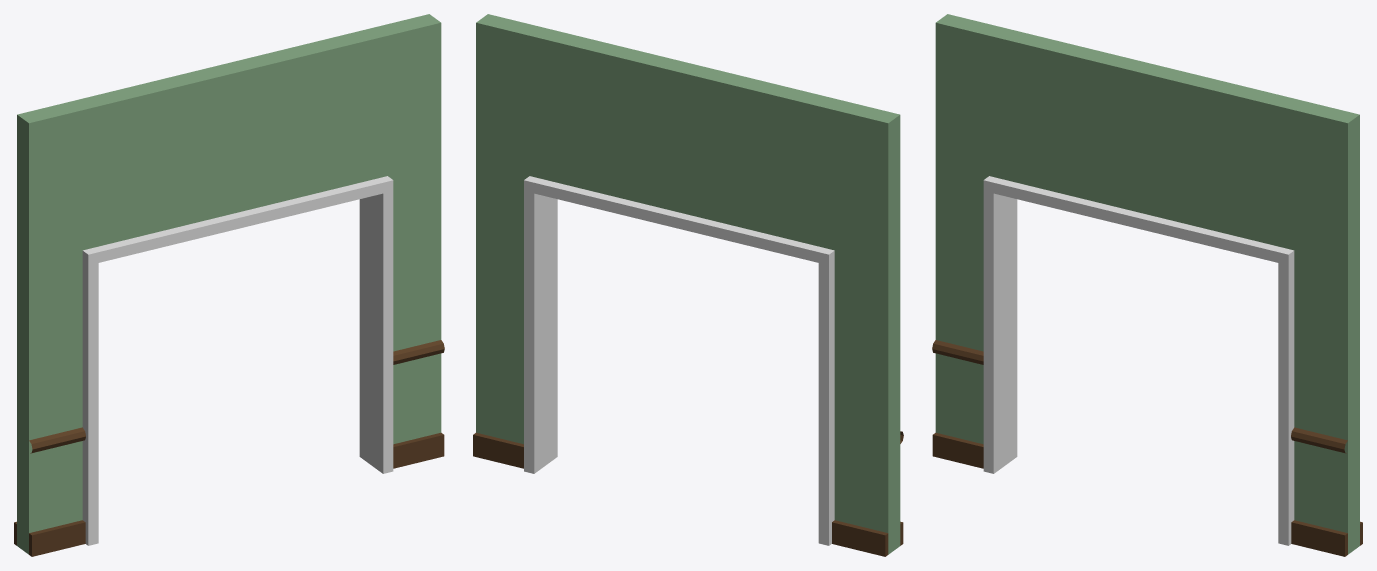
Rendered from h_wall_3_doorFrame_4_3.fbx.
3 views of the same model, side by side, from view 1: azimuth 30°, elevation 25°; view 2: azimuth 150°, elevation 25°; view 3: azimuth 330°, elevation 25° (orthographic).
Parts seen in each view (by area): view 1: Cube, DoorFrame.001; view 2: Cube, DoorFrame.001; view 3: Cube, DoorFrame.001.
Part boxes in pixels (x1,y1,x2,y2): Cube: (14,14,444,556); DoorFrame.001: (82,176,393,545); Cube: (473,14,903,556); DoorFrame.001: (524,176,834,545); Cube: (932,14,1362,556); DoorFrame.001: (983,176,1294,545).
Bounding box in the file's own units: 400 × 400 × 39.37.
